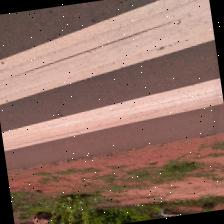crossing: (0, 0, 224, 151)
